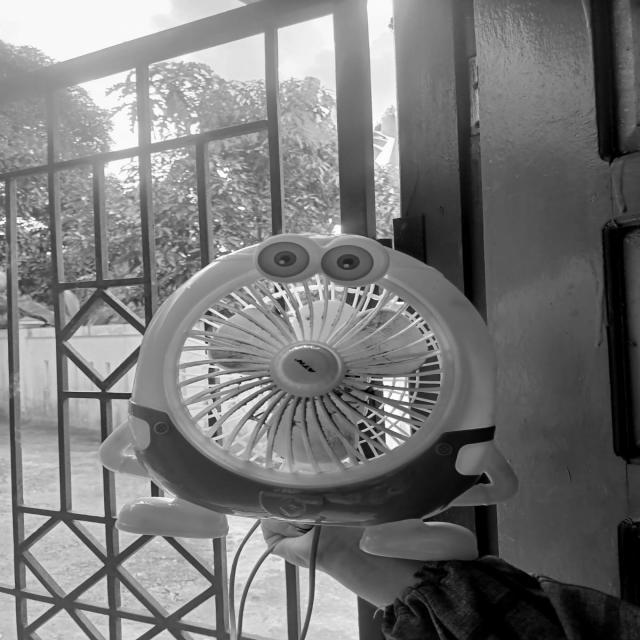fan: (92, 227, 514, 562)
